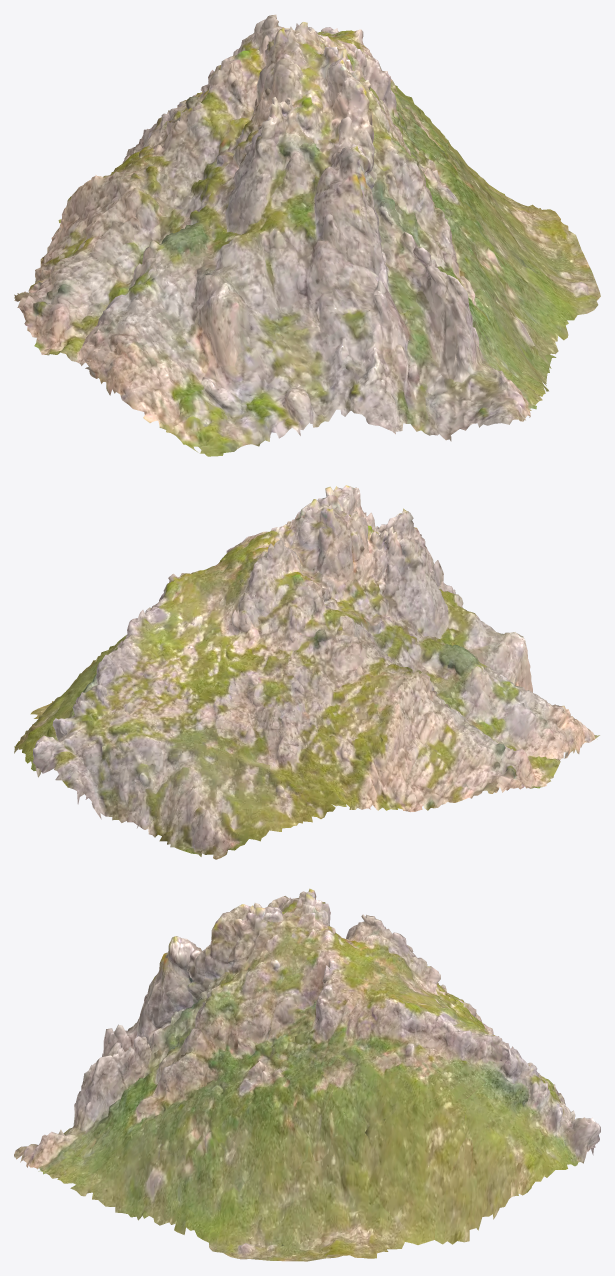
The model's file is mountain_peak.glb.
3 views of the same model, one above another, from view 1: azimuth 30°, elevation 25°; view 2: azimuth 150°, elevation 25°; view 3: azimuth 270°, elevation 25° (orthographic). The views are drawn at different scales.
Parts seen in each view (by area): view 1: Object_4; view 2: Object_4; view 3: Object_4.
Boxes of the visible parts, x1,y1,x2,y2 form: Object_4: (14,14,600,456); Object_4: (14,485,599,859); Object_4: (14,888,600,1261).
Bounding box in the file's own units: 46.14 × 25.51 × 49.63.
1 material, 1 textured.
